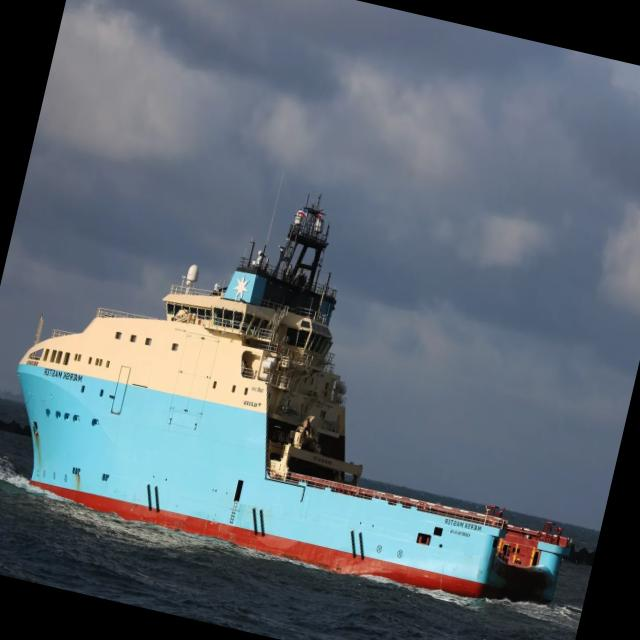Offshore: (17, 198, 566, 598)
